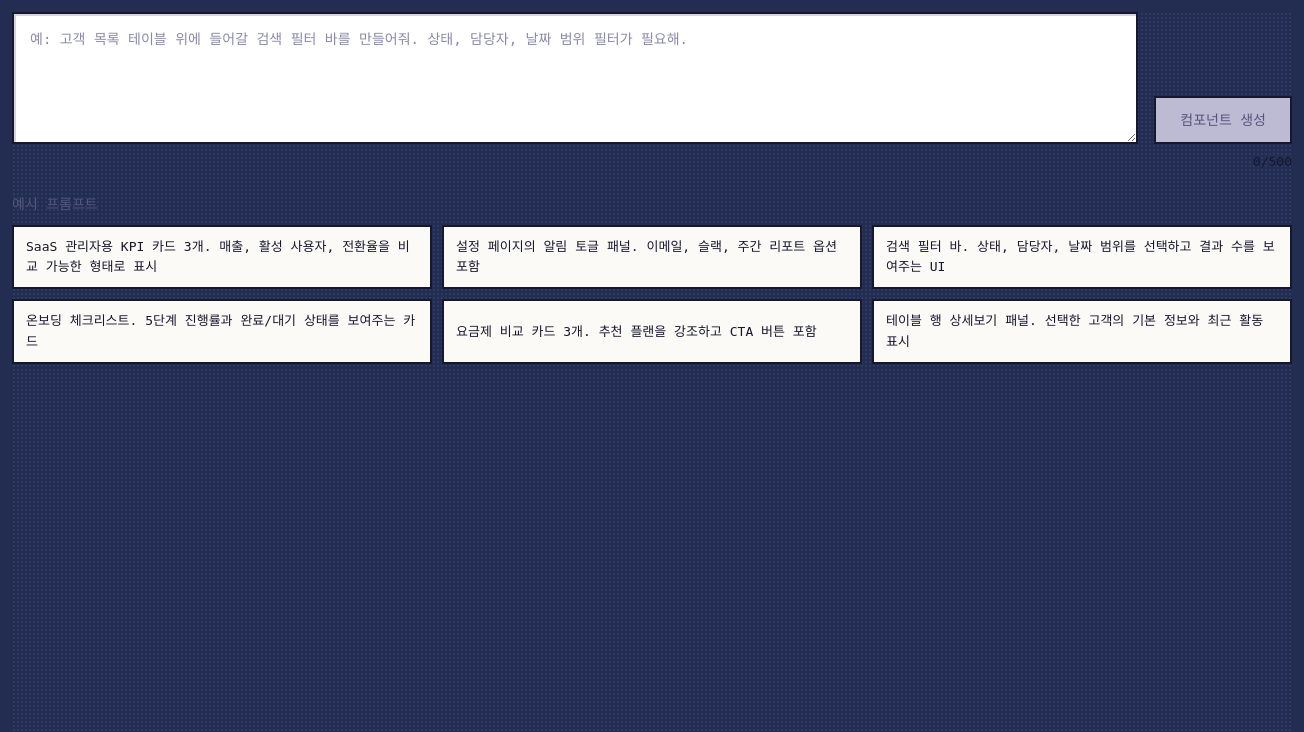
Test case: PromptInput › 입력 길이를 "현재/500" 형태로 보여준다
Type "카드" into the text box.
click(575, 78); type("카드")  # box 12,12 -> 1138,144
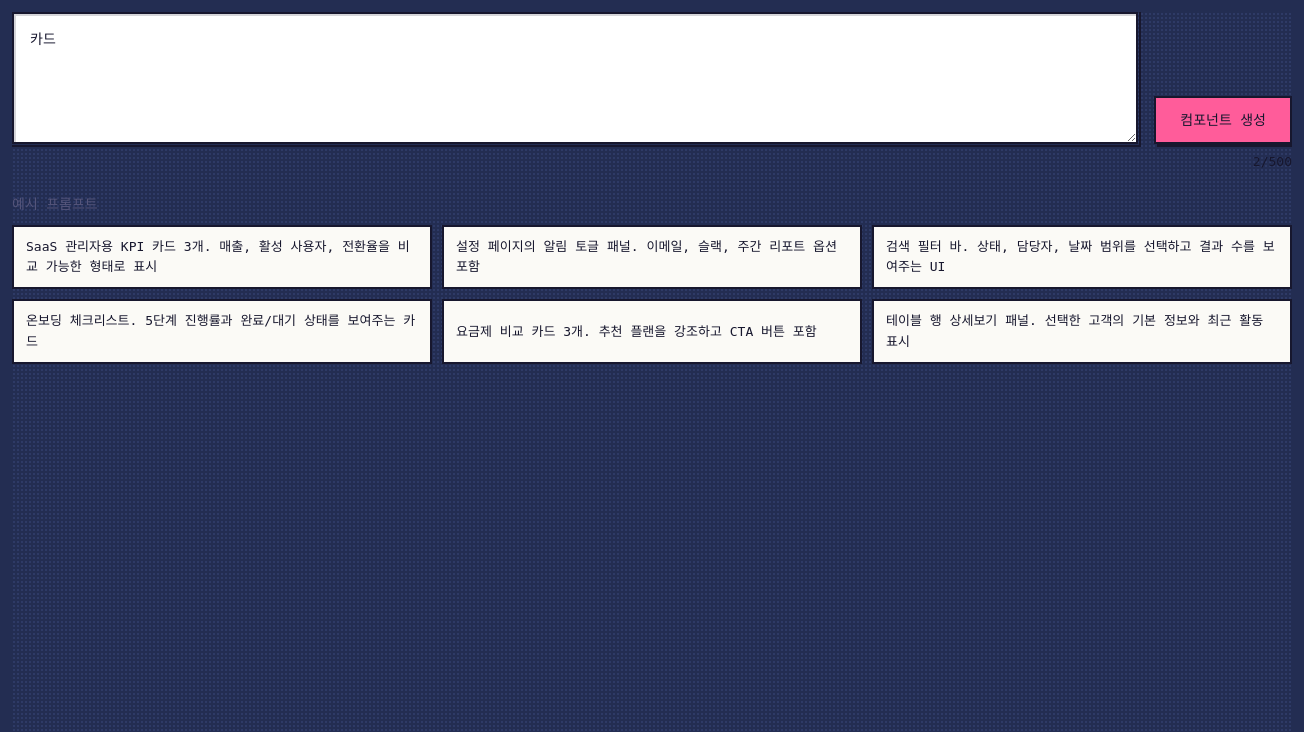
Expected: the text "2/500" is shown, 1253,152 -> 1292,173
